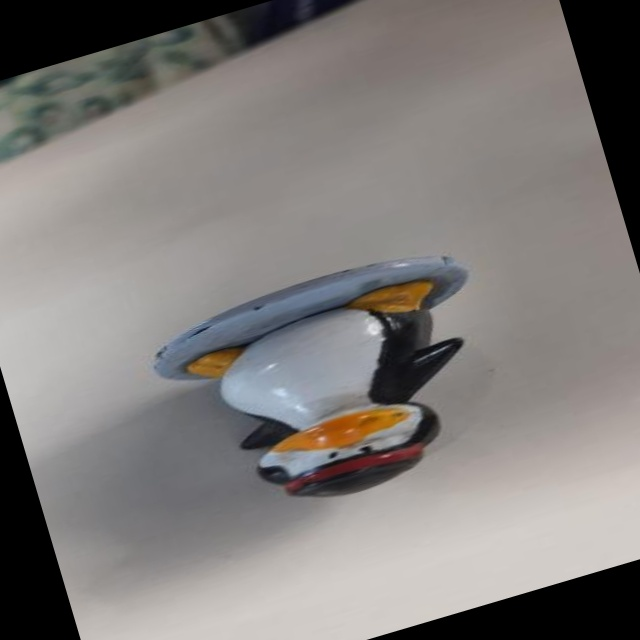Penguin: (111, 197, 550, 566)
